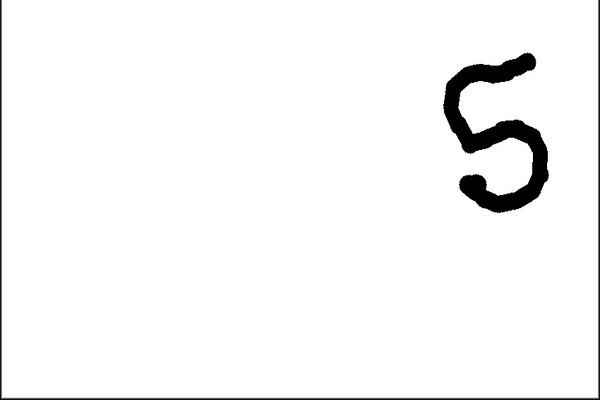S: (430, 48, 553, 217)
